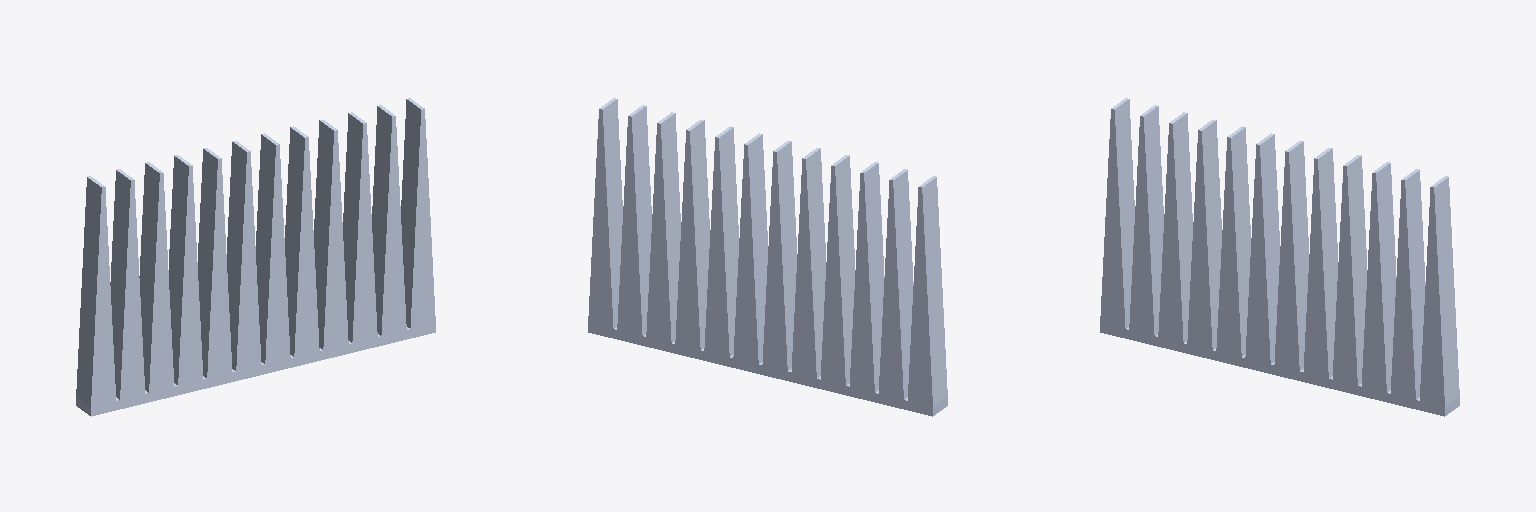
File: secc_prob2.obj
3 views of the same model, side by side, from view 1: azimuth 30°, elevation 25°; view 2: azimuth 150°, elevation 25°; view 3: azimuth 330°, elevation 25° (orthographic).
Parts seen in each view (by area): view 1: SecC_Prob2; view 2: SecC_Prob2; view 3: SecC_Prob2.
Part boxes in pixels (x1,y1,x2,y2): SecC_Prob2: (76,98,435,416); SecC_Prob2: (588,98,947,416); SecC_Prob2: (1100,98,1459,416).
Bounding box in the file's own units: 0.1881 × 0.118 × 0.014.